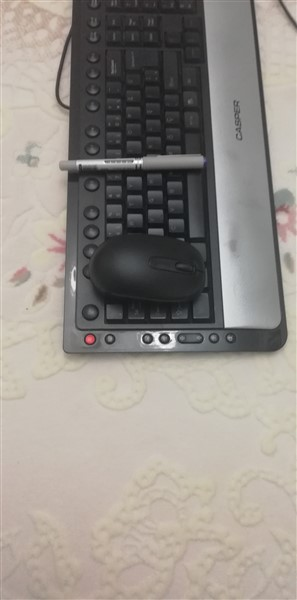klavye: (63, 1, 290, 369)
mouse: (87, 229, 215, 312)
pilot kalem: (58, 150, 205, 175)
